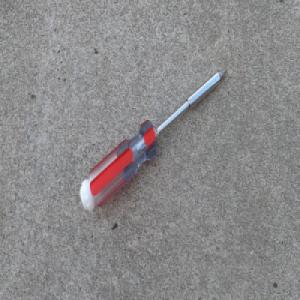Screwdriver: (77, 66, 229, 214)
